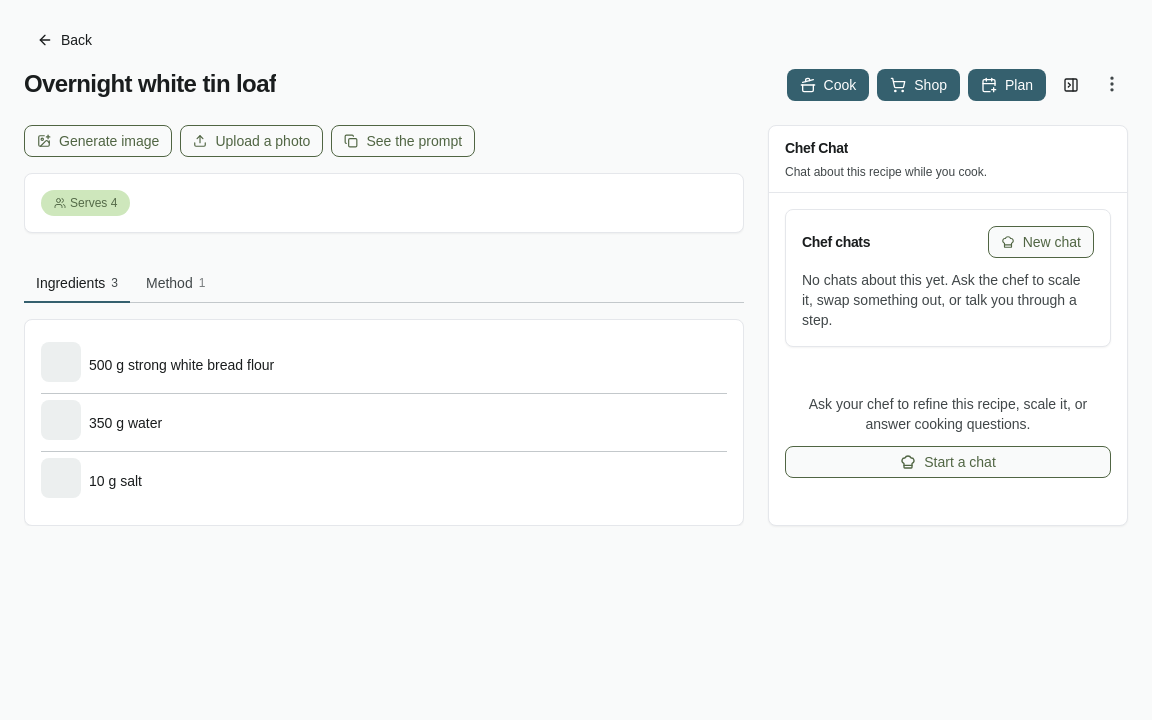
Test case: RecipeViewPage — an entry point for the first formula › offers "Make it scalable" on a loaf that has no formula
Click the button with test id "recipe-actions-overflow" at (1112, 84), box x1=1096 y1=68 x2=1128 y2=100
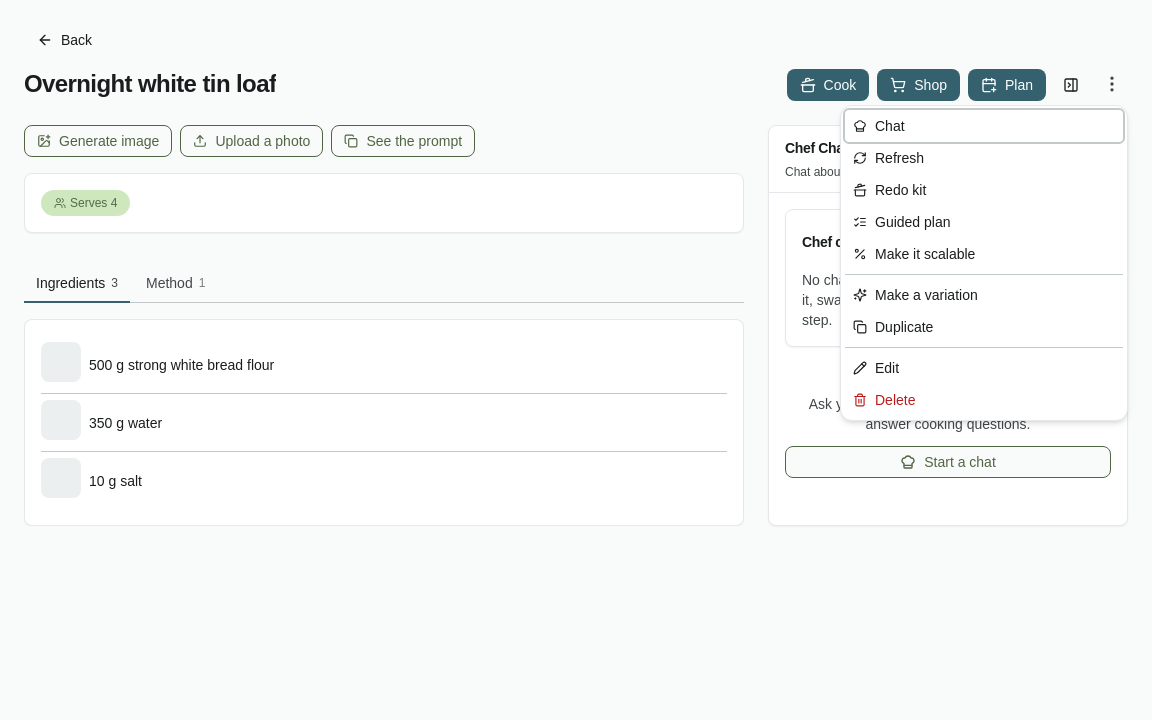
Expected: the button with test id "recipe-make-scalable-menu-item" reads "Make it scalable", x1=845 y1=238 x2=1123 y2=270
